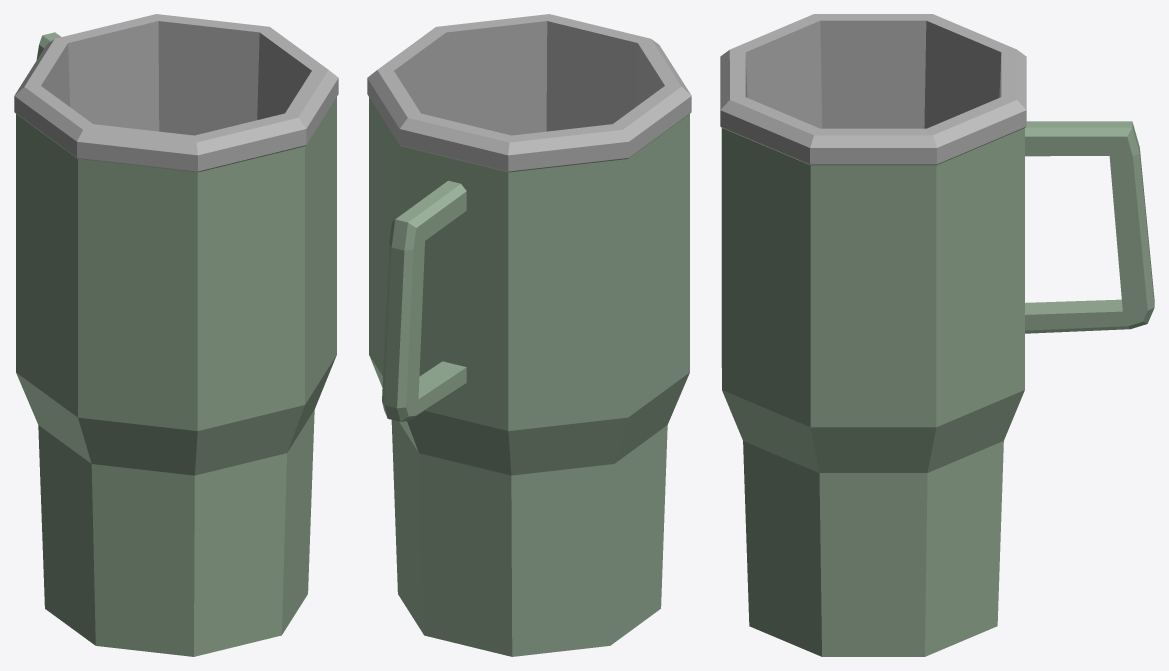
Rendered from item_big_cup.glb.
The picture shows the model from 3 angles, left to right: view 1: azimuth 30°, elevation 25°; view 2: azimuth 150°, elevation 25°; view 3: azimuth 270°, elevation 25°; orthographic projection.
Visible parts, largest first — view 1: StanlyCup; view 2: StanlyCup; view 3: StanlyCup.
Part boxes in pixels (bbox=[...]): StanlyCup: bbox=[14, 14, 338, 656]; StanlyCup: bbox=[367, 14, 691, 656]; StanlyCup: bbox=[720, 14, 1154, 656].
Size of the model in its own units: 0.1613 by 0.3077 by 0.2287.
